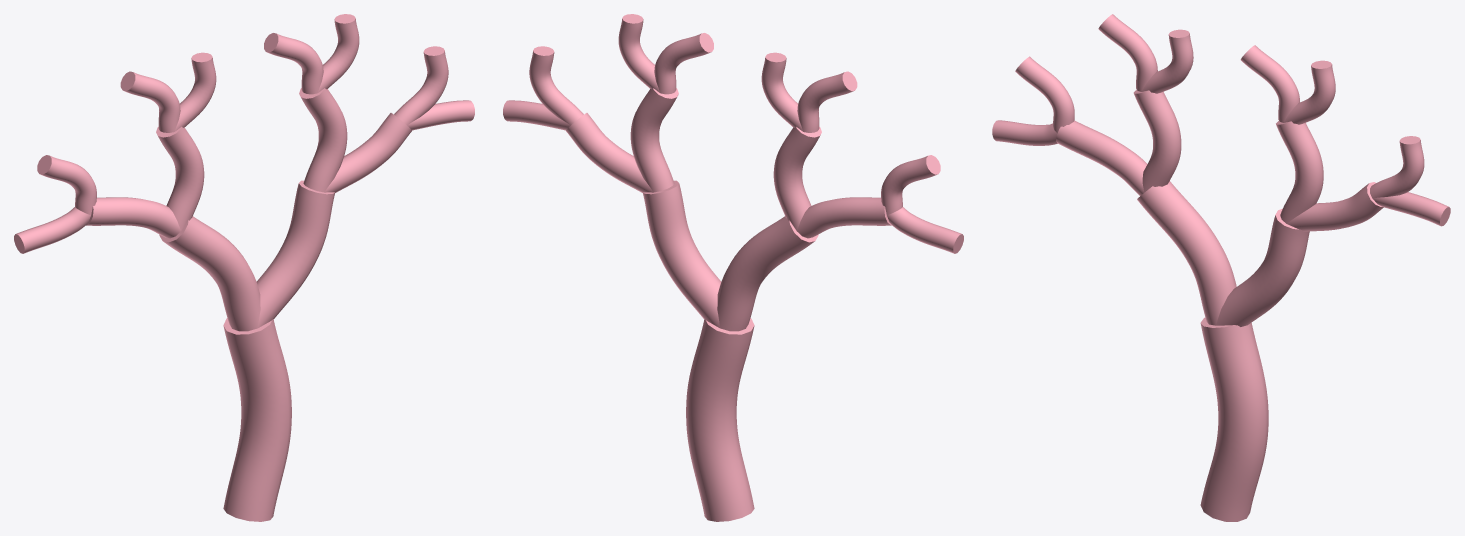
File: Coral.fbx
The picture shows the model from 3 angles, left to right: view 1: azimuth 30°, elevation 25°; view 2: azimuth 150°, elevation 25°; view 3: azimuth 330°, elevation 25°; orthographic projection.
Parts seen in each view (by area): view 1: Coral; view 2: Coral; view 3: Coral.
Part boxes in pixels (<box>): Coral: <box>14,14,474,521</box>; Coral: <box>503,14,963,521</box>; Coral: <box>992,14,1450,521</box>.
Bounding box in the file's own units: 1.24 × 1.25 × 0.12.
